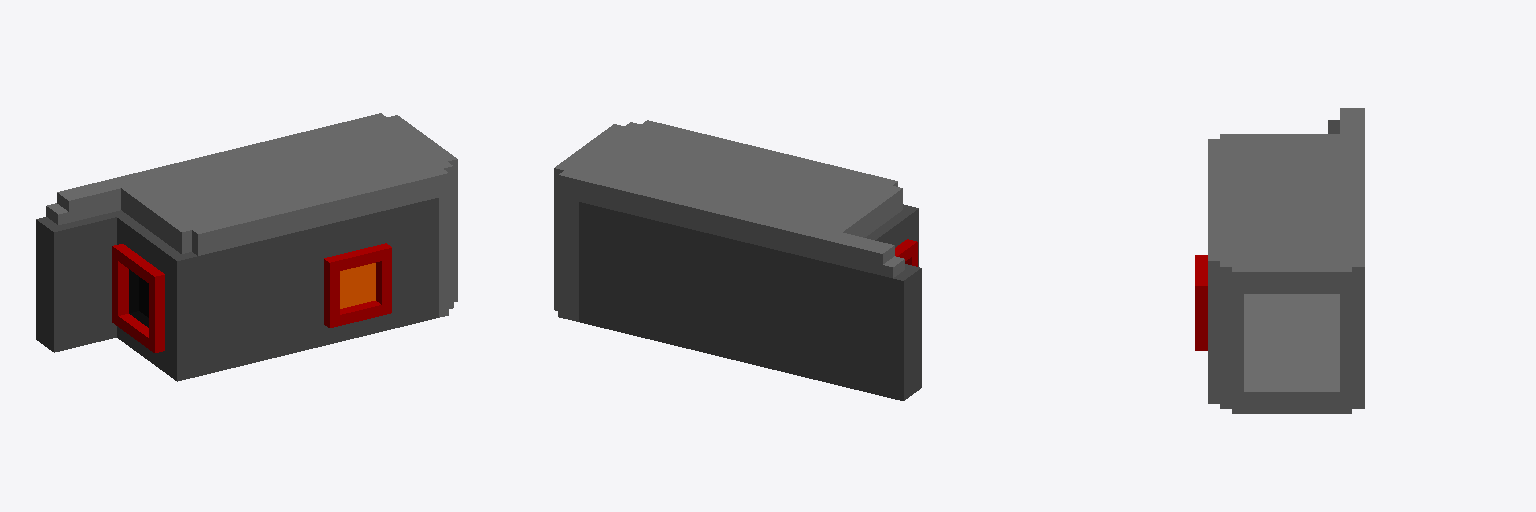
3 renders of one model, left to right at view 1: azimuth 30°, elevation 25°; view 2: azimuth 150°, elevation 25°; view 3: azimuth 270°, elevation 25°, orthographic.
Size of the model in its own units: 34 by 13 by 14.
1 materials, 1 textured.